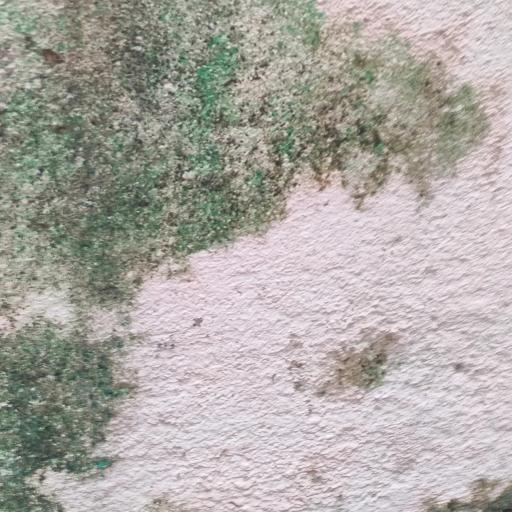algae: (0, 1, 414, 512)
